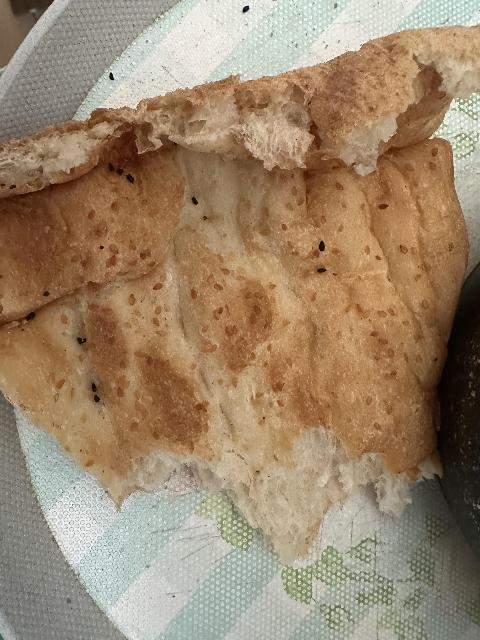Organik: (0, 48, 478, 505)
